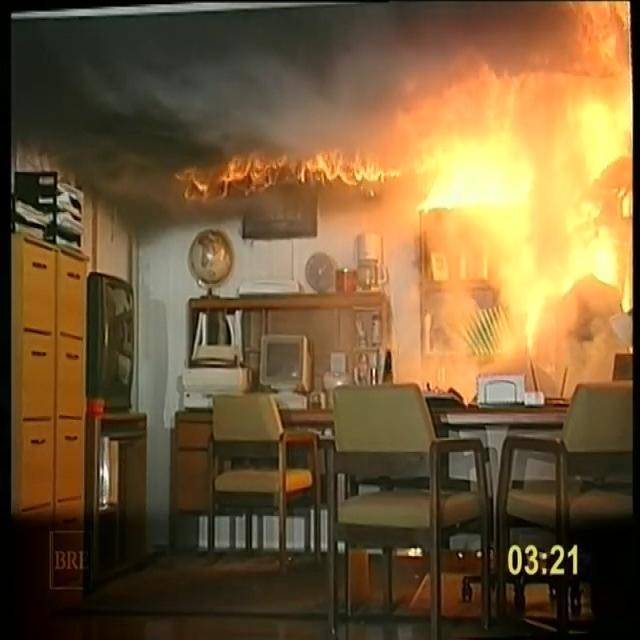Fire: (399, 8, 640, 205)
